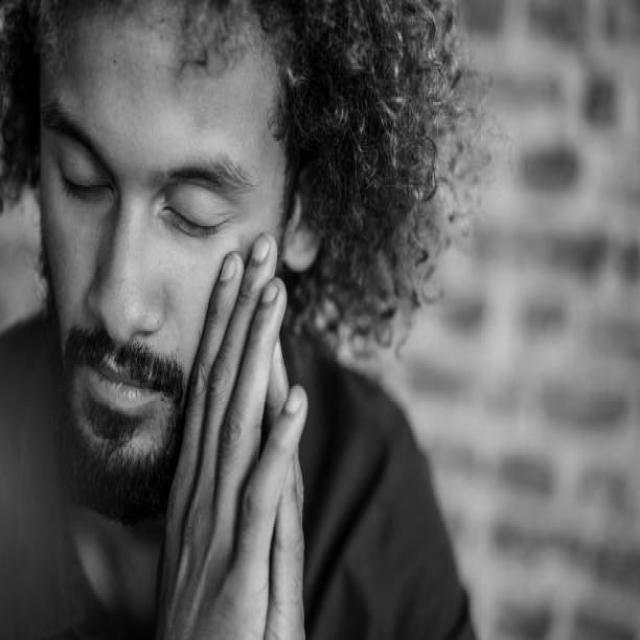real: (25, 5, 322, 524), (40, 92, 268, 242)
